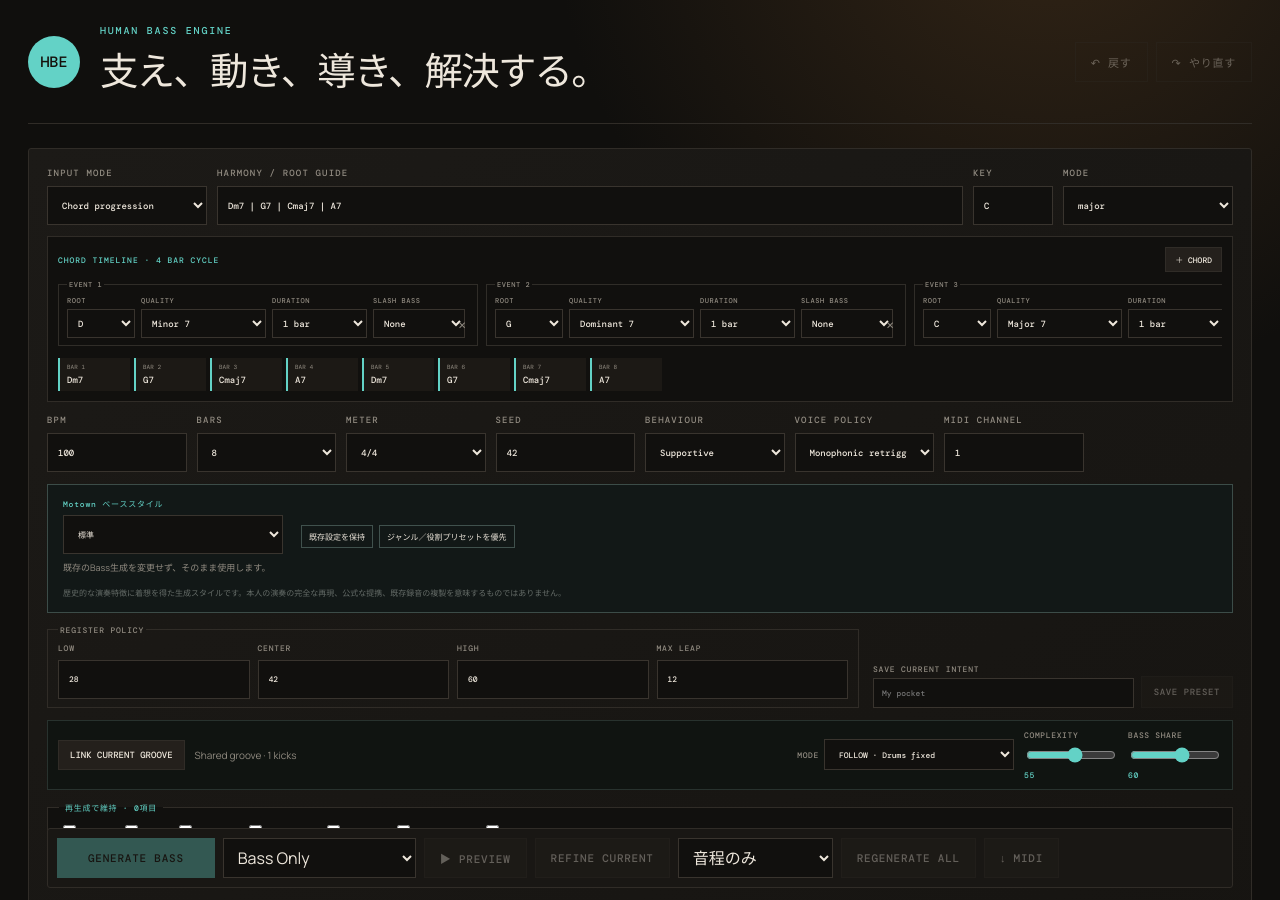
Test case: links the selected Groove pattern and exposes every preview mode
Click the button "LINK CURRENT GROOVE" at (121, 755), box [58, 740, 185, 770]
(page scrolled)
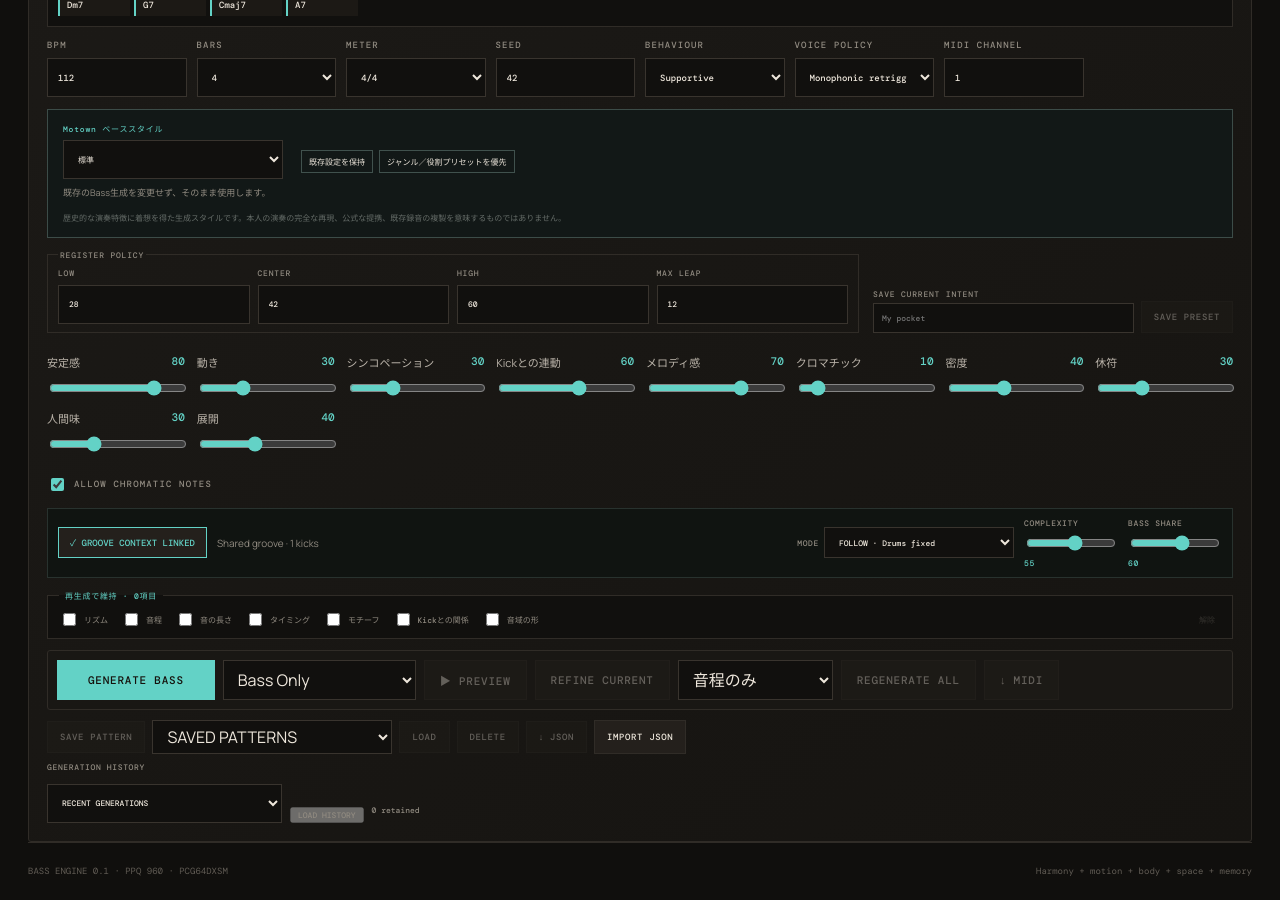
expect the dropdown labelled "VOICE POLICY" is shown: met, box [794, 58, 934, 97]
expect the button "✓ GROOVE CONTEXT LINKED" is shown: met, box [58, 527, 207, 558]
